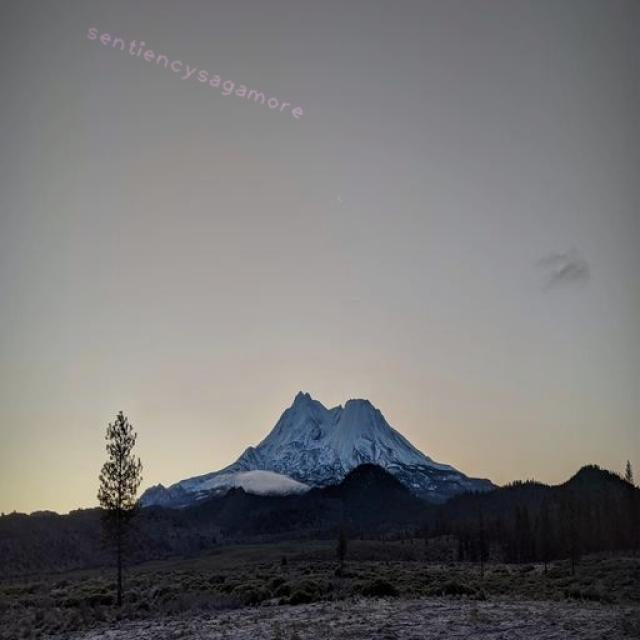watermark: (78, 20, 317, 124)
